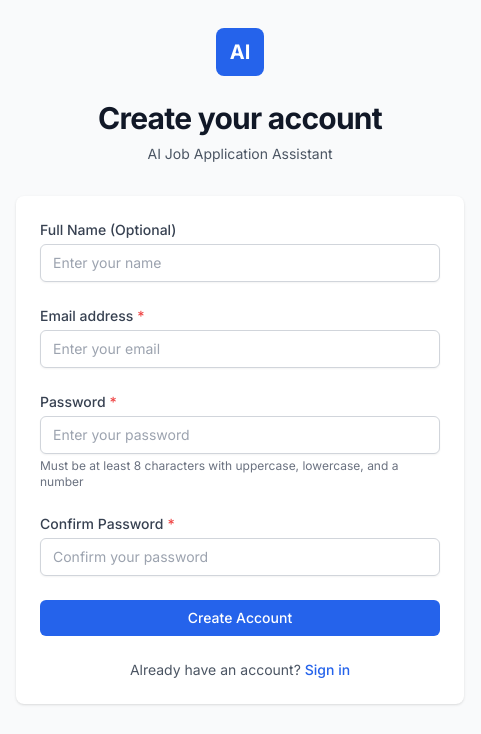
Test: Register › validates password match
The image size is (481, 734).
In the field labelled "Email address*": [240, 349] box [40,330,440,368], type "test@example.com"
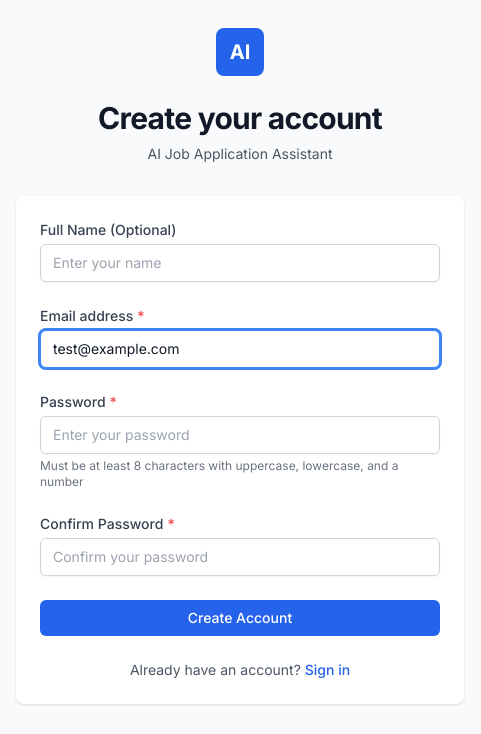
In the password field labelled "Password*": [240, 435] box [40,416,440,454], type "Password123"
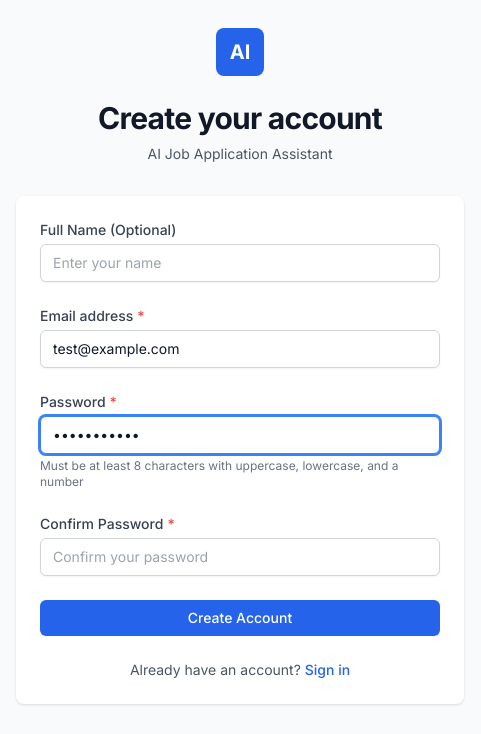
In the password field labelled "Confirm Password*": [240, 557] box [40,538,440,576], type "DifferentPassword123"
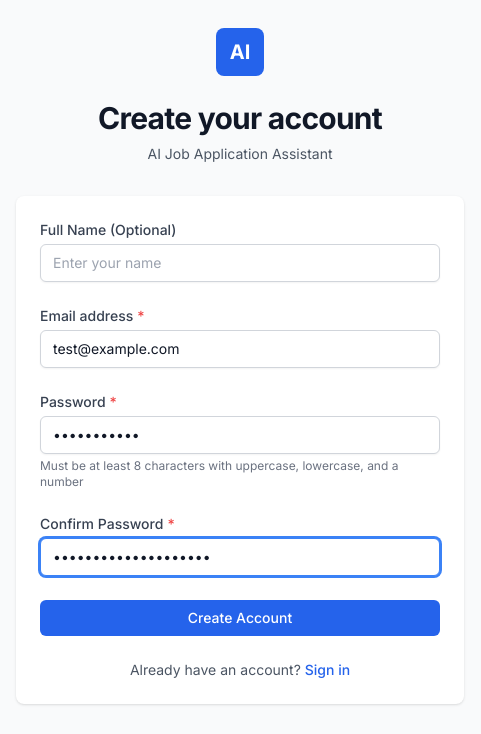
Click the button "Create Account": [240, 618] box [40,600,440,636]
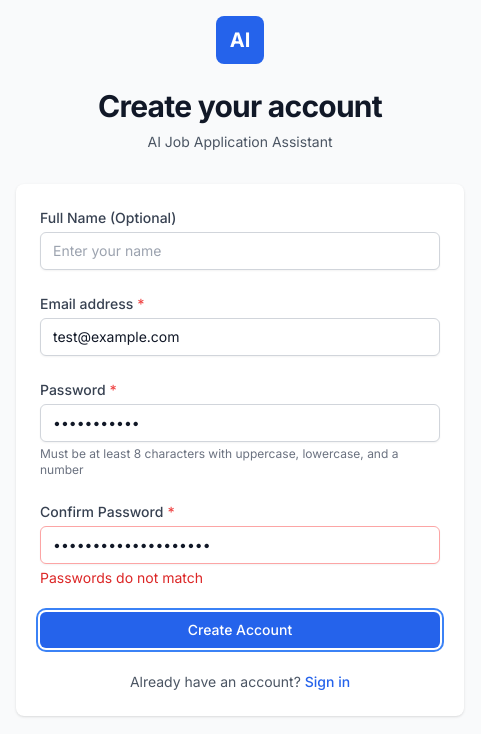
expect the text "Passwords do not match" is shown: met, box [40,569,203,586]
